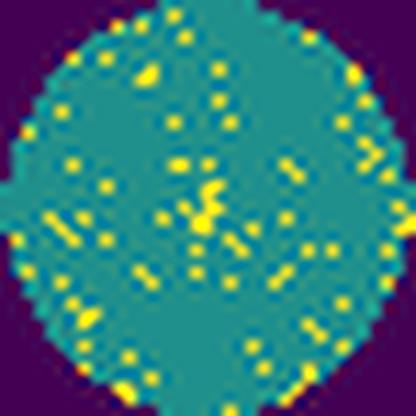Center: (189, 179, 227, 238)
